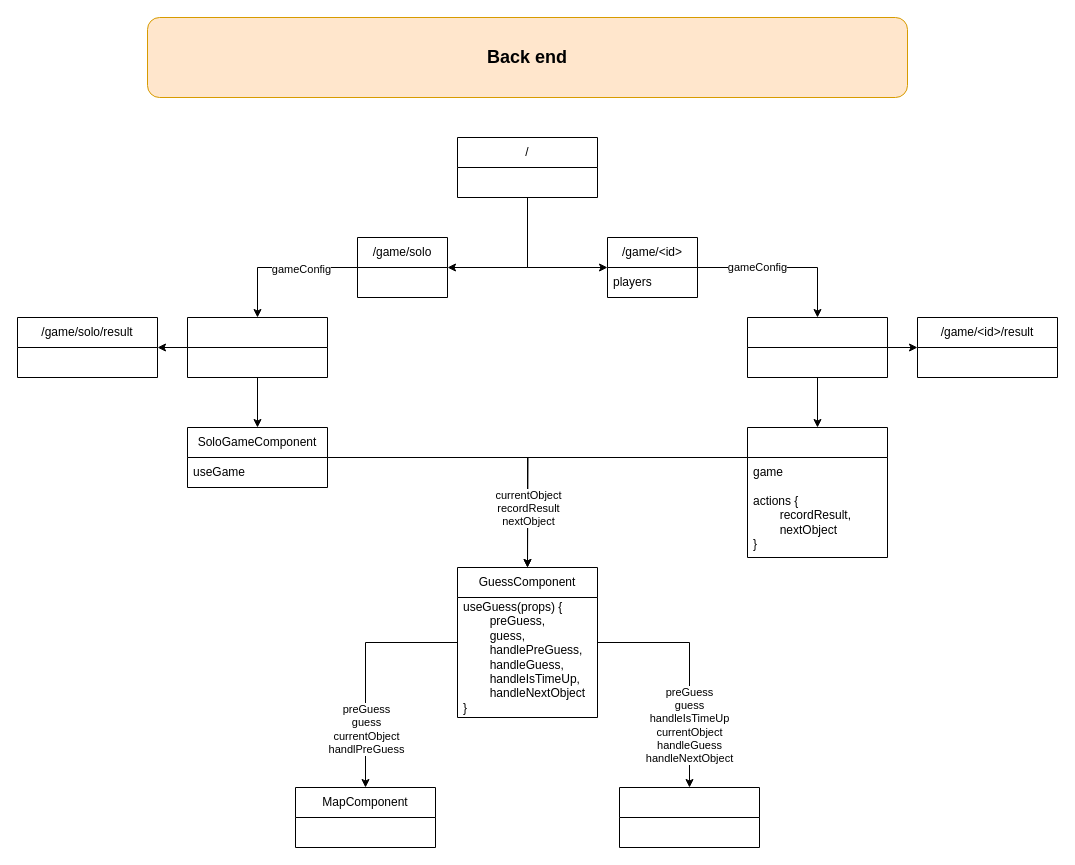
Image size: 1075x865. Some labels were removed from this diagram. The box of each missing label's shape, as (x1, y1, x2, y2) in pixels:
/game/<id>/play: (746, 316, 888, 378)
/game/solo/play: (186, 316, 328, 378)
MultiGameComponent: (746, 426, 888, 558)
OverlayComponent: (618, 786, 760, 848)
